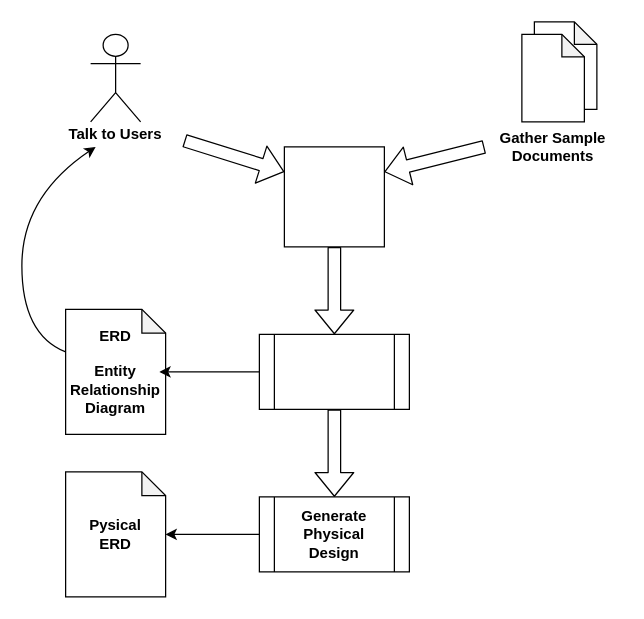
The diagram is 644 pixels wide and 619 high, and some of its shapes have lost their labels. The shapes that lost their labels are listed below. From the top down, each one's box as (x1, y1, x2, y2) in pixels, then its label:
(283, 146, 384, 247): Identify Data Items and Business Rules
(258, 333, 409, 409): Generate Logical Design
